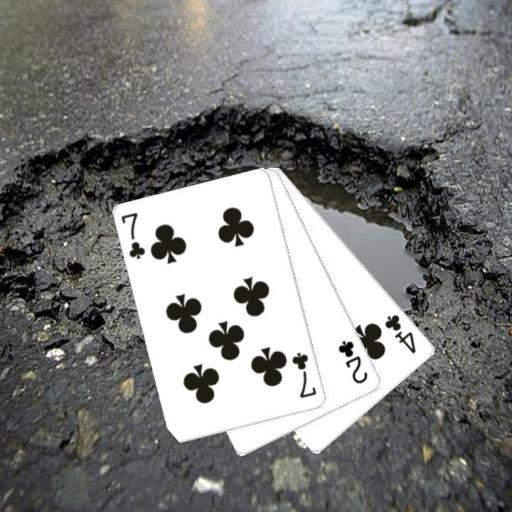2C: (335, 337, 370, 385)
4C: (381, 311, 418, 356)
7C: (289, 349, 319, 400), (118, 209, 147, 261)
